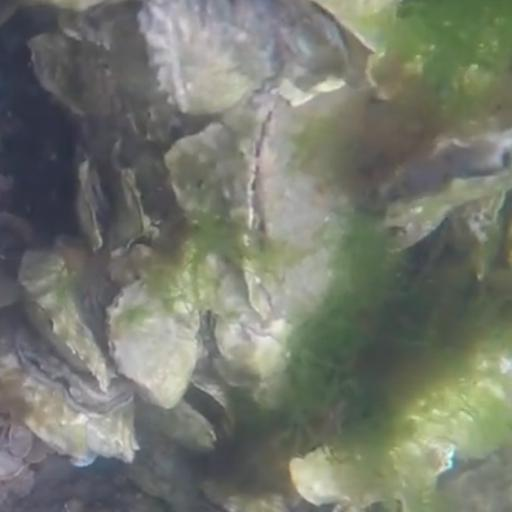Oyster-Closed: (139, 1, 276, 114), (18, 254, 117, 387), (109, 281, 200, 403)
Oyster-Open: (234, 81, 375, 329), (383, 136, 512, 236), (20, 328, 132, 422), (79, 136, 153, 256), (141, 381, 238, 467)
